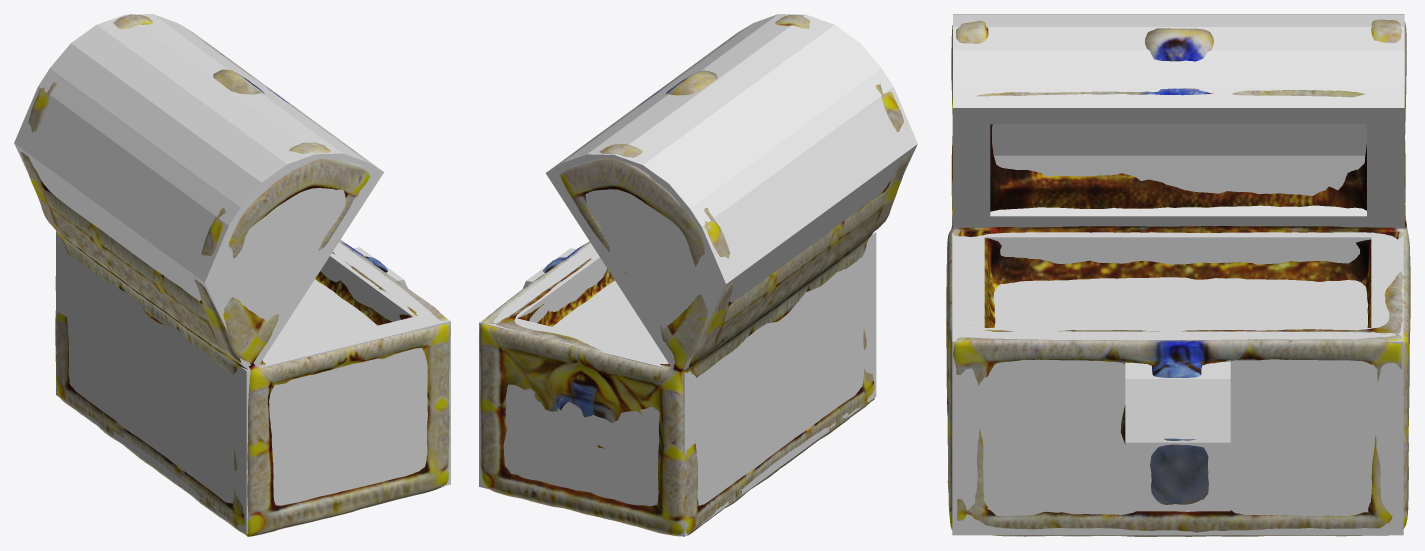
File: chest_col.glb
3 views of the same model, side by side, from view 1: azimuth 30°, elevation 25°; view 2: azimuth 150°, elevation 25°; view 3: azimuth 270°, elevation 25° (orthographic). The views are drawn at different scales.
Parts seen in each view (by area): view 1: mesh_col, mesh; view 2: mesh_col, mesh; view 3: mesh_col, mesh.
Boxes of the visible parts, x1,y1,x2,y2 form: mesh_col: (14,14,450,534); mesh: (20,14,450,536); mesh_col: (479,14,917,536); mesh: (479,15,911,536); mesh_col: (952,14,1404,535); mesh: (946,19,1410,536).
Bounding box in the file's own units: 0.8158 × 0.9996 × 0.9537.
1 material, 1 textured.
